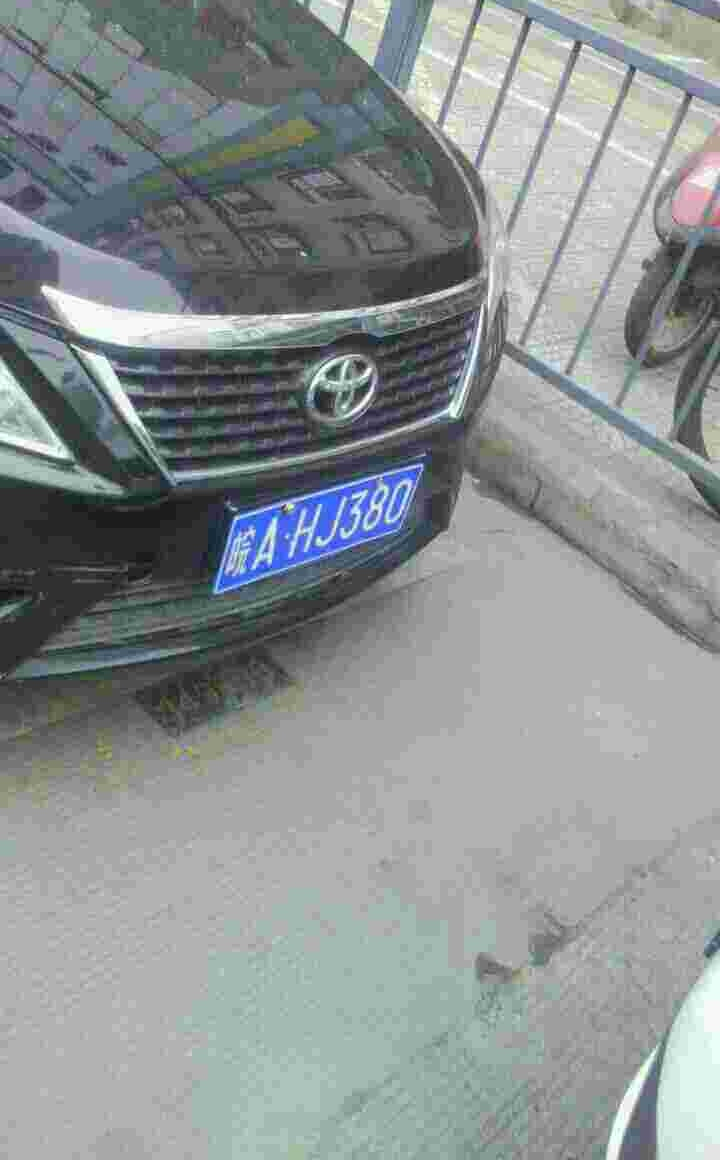license_plate: (216, 457, 423, 586)
